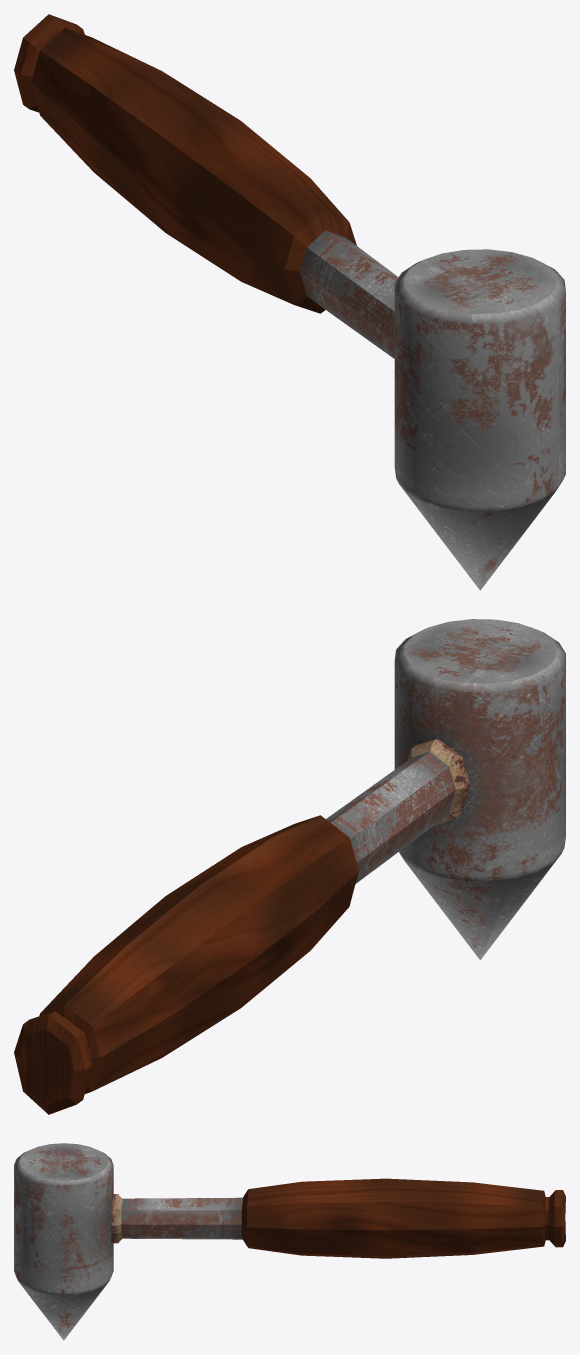
The model's file is Hammer.fbx.
3 views of the same model, one above another, from view 1: azimuth 30°, elevation 25°; view 2: azimuth 150°, elevation 25°; view 3: azimuth 270°, elevation 25° (orthographic). The views are drawn at different scales.
Visible parts, largest first — view 1: pCylinder1; view 2: pCylinder1; view 3: pCylinder1.
Part boxes in pixels (x1,y1,x2,y2): pCylinder1: (14,14,565,590); pCylinder1: (14,619,565,1114); pCylinder1: (14,1143,565,1340).
Bounding box in the file's own units: 2.36 × 4.68 × 13.09.
